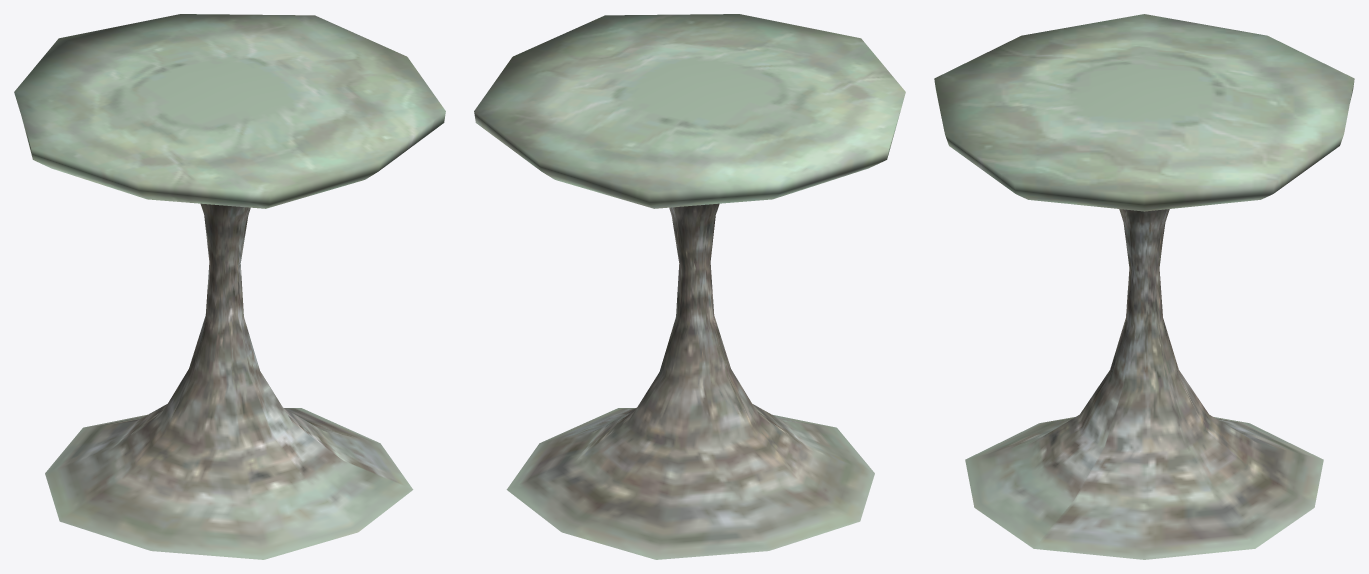
The model's file is INST_TROLLHOLE_SHELFSTONE2M.fbx.
The picture shows the model from 3 angles, left to right: view 1: azimuth 30°, elevation 25°; view 2: azimuth 150°, elevation 25°; view 3: azimuth 270°, elevation 25°; orthographic projection.
Parts seen in each view (by area): view 1: INST_TROLLHOLE_SHELFSTONE2M; view 2: INST_TROLLHOLE_SHELFSTONE2M; view 3: INST_TROLLHOLE_SHELFSTONE2M.
Part boxes in pixels (x1,y1,x2,y2): INST_TROLLHOLE_SHELFSTONE2M: [14, 14, 445, 559]; INST_TROLLHOLE_SHELFSTONE2M: [474, 14, 905, 559]; INST_TROLLHOLE_SHELFSTONE2M: [934, 14, 1354, 559].
Size of the model in its own units: 21244 by 21531 by 20736.
2 materials, 2 textured.
